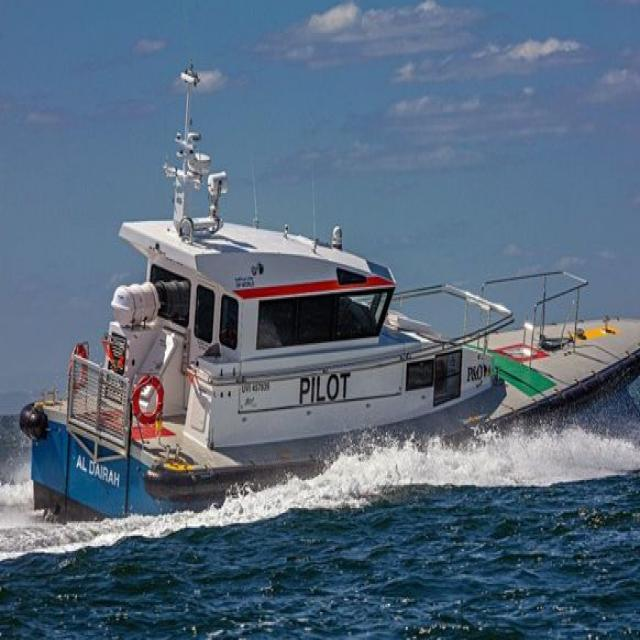houseboat: (20, 71, 640, 528)
